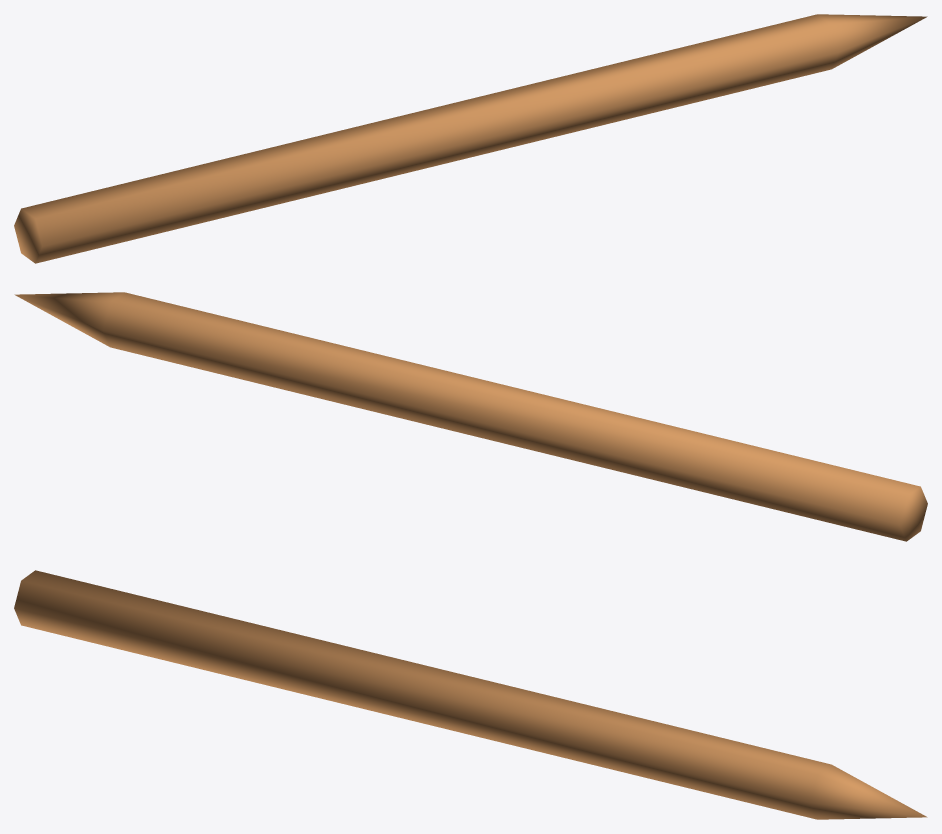
Rendered from Pencil.fbx.
3 views of the same model, one above another, from view 1: azimuth 30°, elevation 25°; view 2: azimuth 150°, elevation 25°; view 3: azimuth 330°, elevation 25° (orthographic).
Visible parts, largest first — view 1: Pencil; view 2: Pencil; view 3: Pencil.
Boxes of the visible parts, x1=… form: Pencil: x1=14, y1=14, x2=927, y2=263; Pencil: x1=14, y1=292, x2=927, y2=541; Pencil: x1=14, y1=570, x2=927, y2=819.
Bounding box in the file's own units: 14.76 × 0.7013 × 0.8098.
